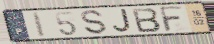5: (53, 11, 79, 37)
B: (131, 7, 163, 34)
F: (157, 5, 186, 33)
I: (31, 11, 48, 39)
J: (111, 8, 133, 34)
S: (80, 9, 109, 36)
